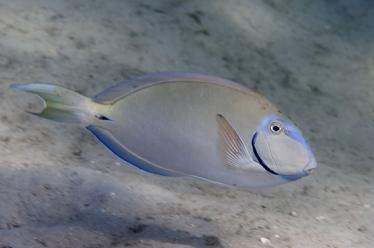Acanthuridae -Surgeonfishes-: (7, 69, 317, 189)
